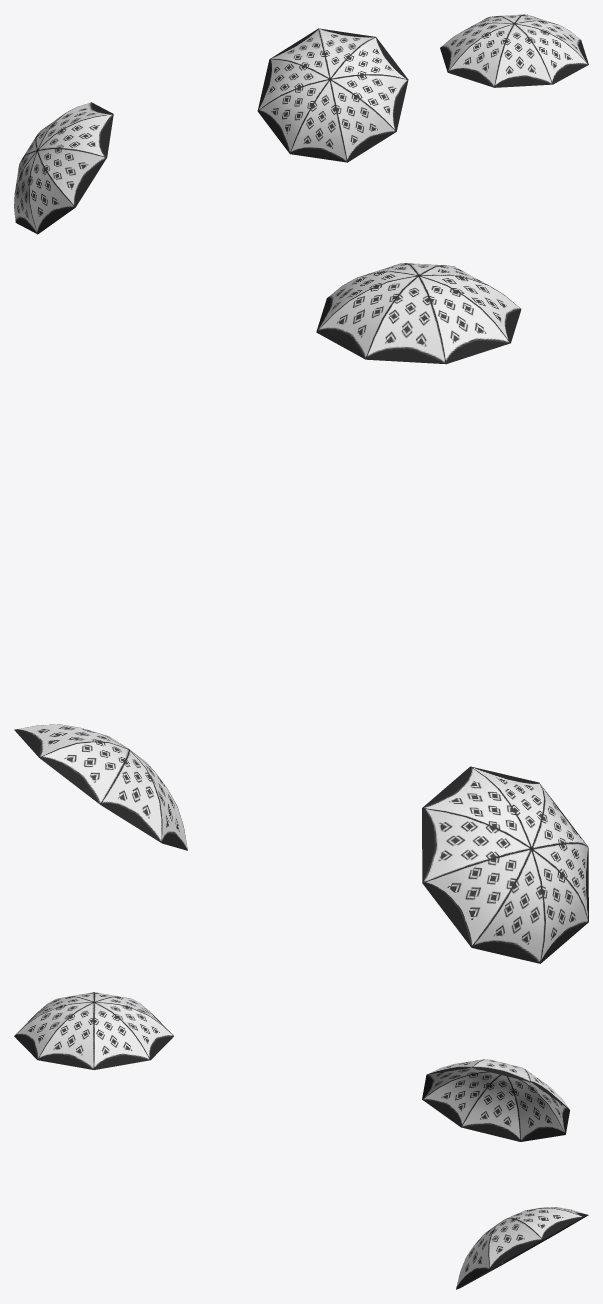
Rendered from ombrello_05.dae.
3 renders of one model, top to bottom at view 1: azimuth 30°, elevation 25°; view 2: azimuth 150°, elevation 25°; view 3: azimuth 270°, elevation 25°, orthographic. The views are drawn at different scales.
Parts seen in each view (by area): view 1: ombrello_01 (×5), ombrello_01.9, ombrello_01.10, ombrello_01.17, ombrello_01.16, ombrello_01.11, ombrello_01.24, ombrello_01.18, ombrello_01.15, ombrello_01.12, ombrello_01.14, ombrello_01.13 (+2 smaller); view 2: ombrello_01 (×5), ombrello_01.21, ombrello_01.20, ombrello_01.22, ombrello_01.19, ombrello_01.14, ombrello_01.15, ombrello_01.23, ombrello_01.18, ombrello_01.13, ombrello_01.24, ombrello_01.17 (+1 smaller); view 3: ombrello_01 (×6), ombrello_01.23, ombrello_01.24, ombrello_01.22, ombrello_01.12, ombrello_01.13, ombrello_01.11, ombrello_01.17, ombrello_01.19, ombrello_01.21.
Part boxes in pixels (x1,y1,x2,y2): ombrello_01 (×5): (440, 20, 588, 87); ombrello_01.9: (290, 79, 347, 162); ombrello_01.10: (330, 79, 396, 162); ombrello_01.17: (37, 148, 106, 206); ombrello_01.16: (257, 79, 329, 153); ombrello_01.11: (330, 74, 408, 131); ombrello_01.24: (29, 151, 75, 233); ombrello_01.18: (37, 114, 113, 157); ombrello_01.15: (257, 59, 329, 110); ombrello_01.12: (330, 37, 408, 79); ombrello_01.14: (270, 28, 329, 78); ombrello_01.13: (318, 28, 375, 78); ombrello_01 (×5): (316, 271, 521, 364); ombrello_01.21: (422, 849, 531, 947); ombrello_01.20: (422, 808, 531, 883); ombrello_01.22: (472, 849, 545, 963); ombrello_01.19: (422, 766, 531, 848); ombrello_01.14: (39, 742, 129, 804); ombrello_01.15: (100, 750, 162, 842); ombrello_01.23: (532, 849, 588, 963); ombrello_01.18: (471, 766, 544, 848); ombrello_01.13: (14, 724, 128, 757); ombrello_01.24: (532, 842, 588, 921); ombrello_01.17: (532, 784, 587, 848); ombrello_01 (×6): (14, 997, 173, 1069); ombrello_01.23: (461, 1075, 520, 1141); ombrello_01.24: (422, 1072, 500, 1126); ombrello_01.22: (507, 1076, 565, 1141); ombrello_01.12: (488, 1218, 542, 1269); ombrello_01.13: (505, 1208, 583, 1239); ombrello_01.11: (456, 1221, 501, 1289); ombrello_01.17: (422, 1067, 488, 1099); ombrello_01.19: (472, 1059, 530, 1081); ombrello_01.21: (520, 1079, 569, 1134).
Bounding box in the file's own units: 577 × 397 × 717.
Materials: 1 (1 with a texture image).
